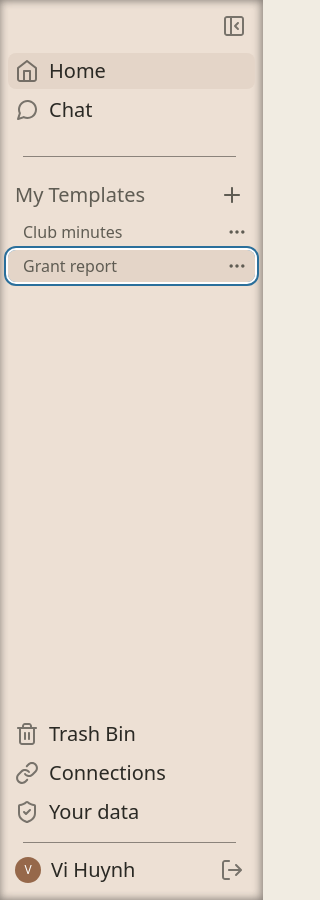
Test case: AppSidebar › when a template found in the Trash Bin already was the last row, moves focus to the row above, and to the + when none are left
Click the button "Grant report".
click(132, 266)  # box x1=8 y1=250 x2=255 y2=282
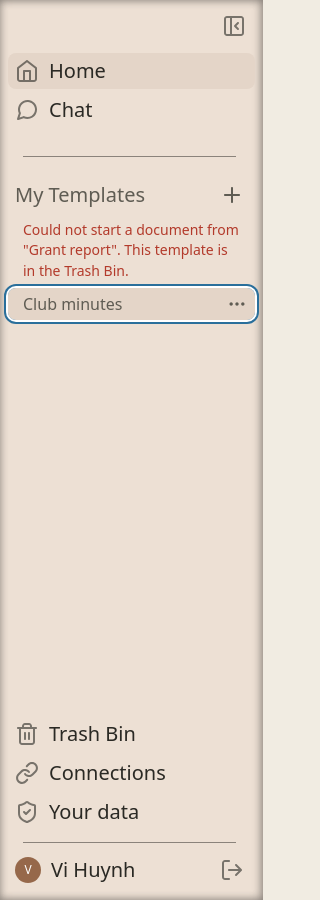
Click the button with id "template-start-1".
click(132, 304)  # box x1=8 y1=288 x2=255 y2=320
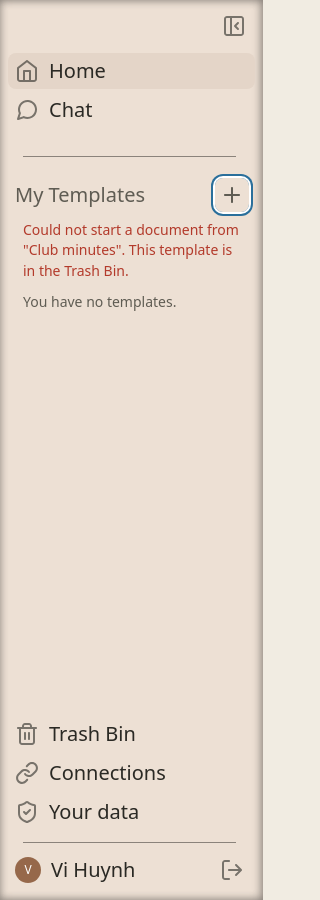
Check: the text with class "sidebar__note" reads "You have no templates.", box x1=23 y1=292 x2=176 y2=311
